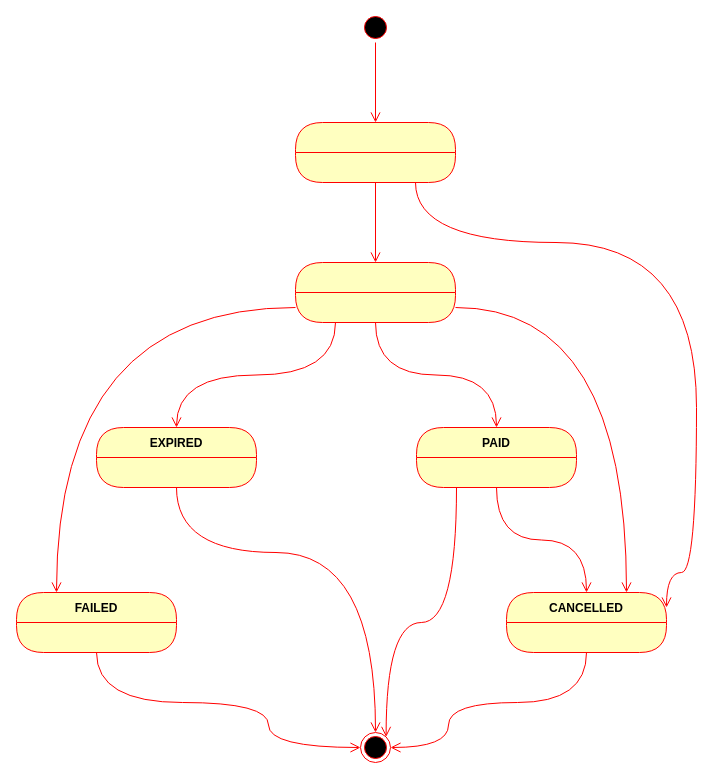
This 713x779 diagram has some shape labels left out. The shapes that lost their labels are listed below. From the top down, each one's centre as x and y in pixels, then its label:
At point (375, 152): "PENDING".
At point (375, 292): "RESERVED".
